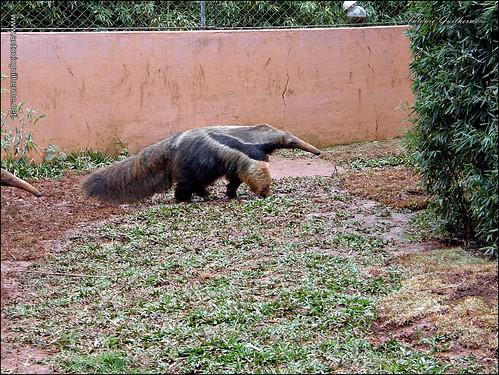TamanduaBandeira: (79, 122, 324, 208)
